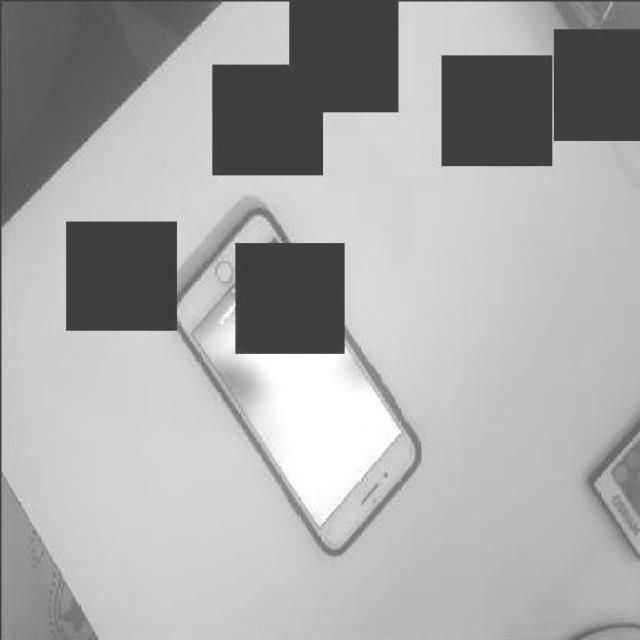fake: (172, 213, 422, 558)
